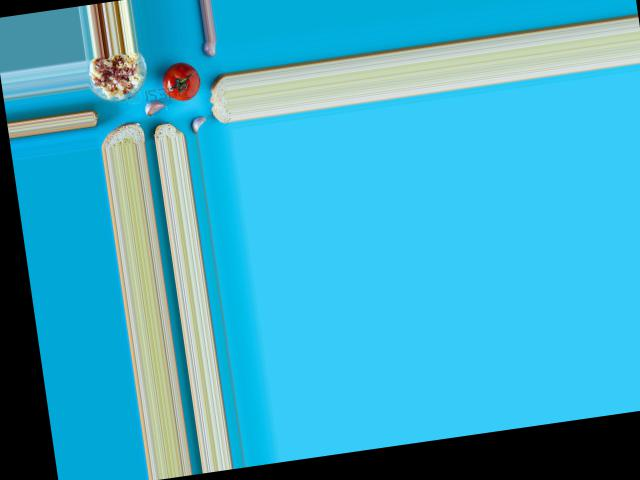tomato: (161, 59, 203, 103)
